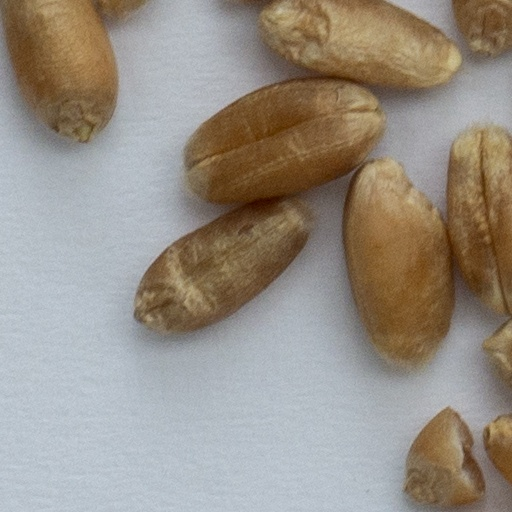Wheat-grain-damaged-poly: (406, 409, 482, 507)
